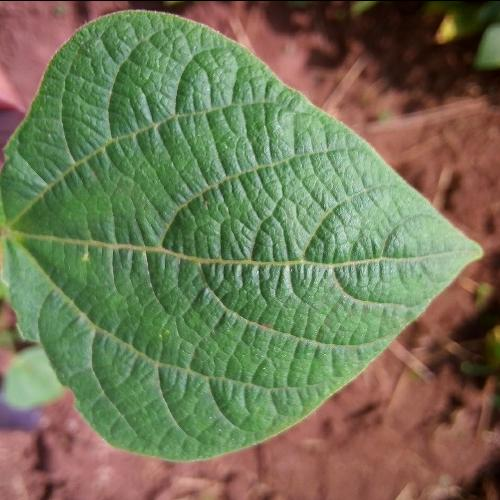sehat: (60, 148, 376, 360)
